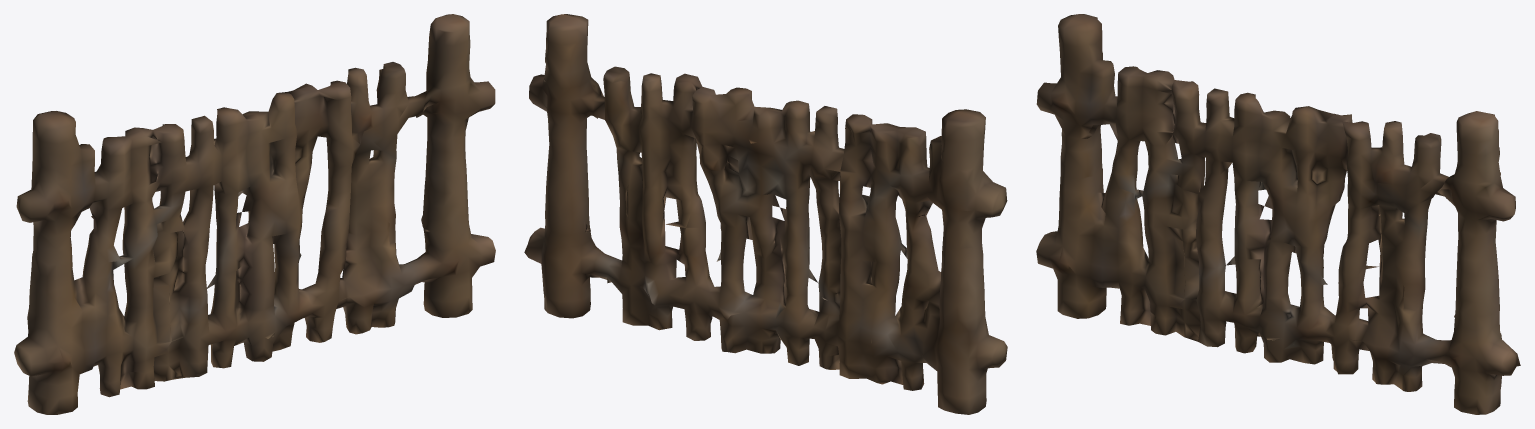
File: flechtzaun.glb
3 renders of one model, left to right at view 1: azimuth 30°, elevation 25°; view 2: azimuth 150°, elevation 25°; view 3: azimuth 330°, elevation 25°, orthographic.
Bounding box in the file's own units: 2 × 1.18 × 0.2149.
